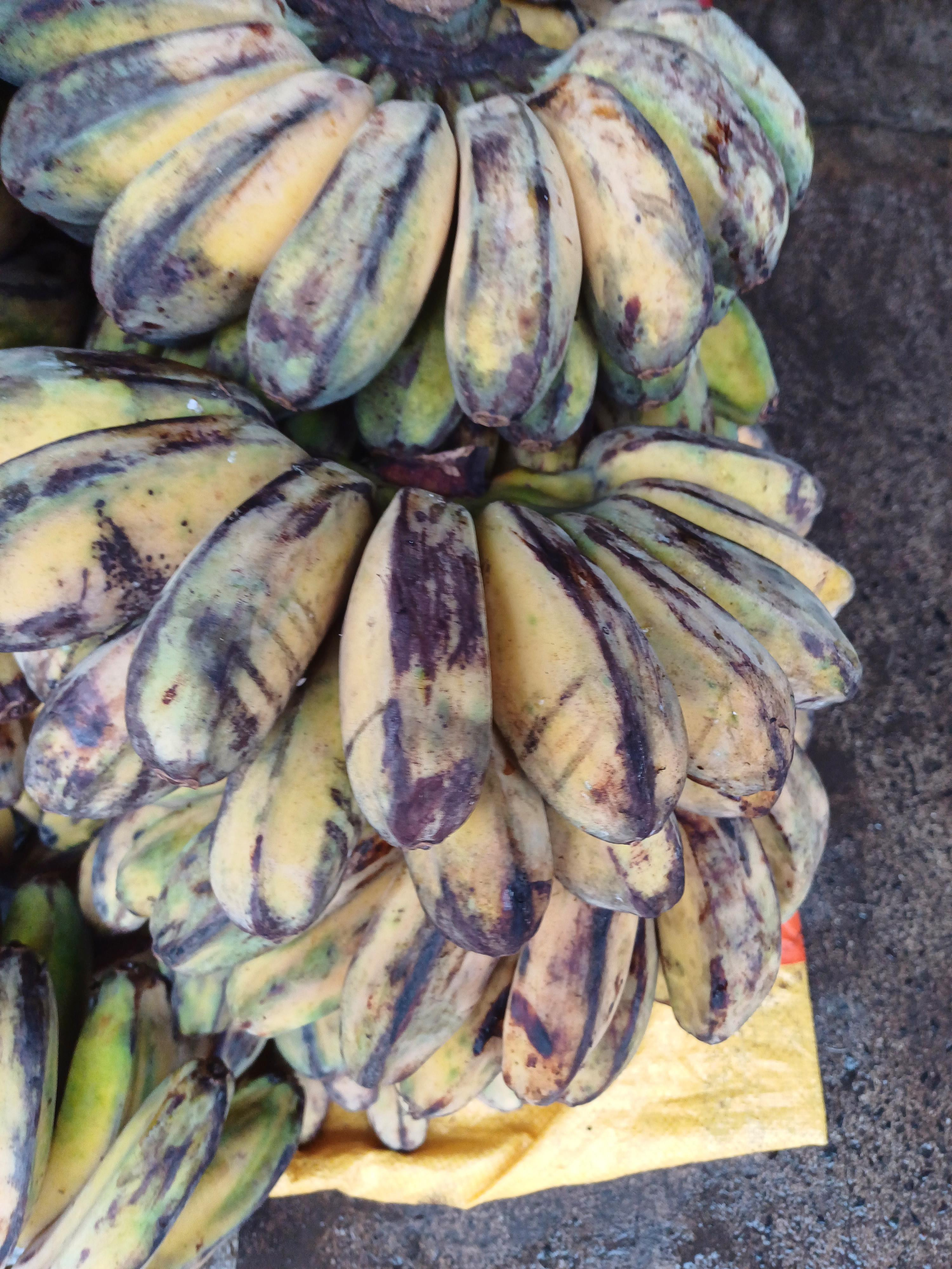underripe: (0, 348, 861, 956), (0, 0, 812, 428), (79, 744, 835, 1114), (0, 879, 301, 1269)
